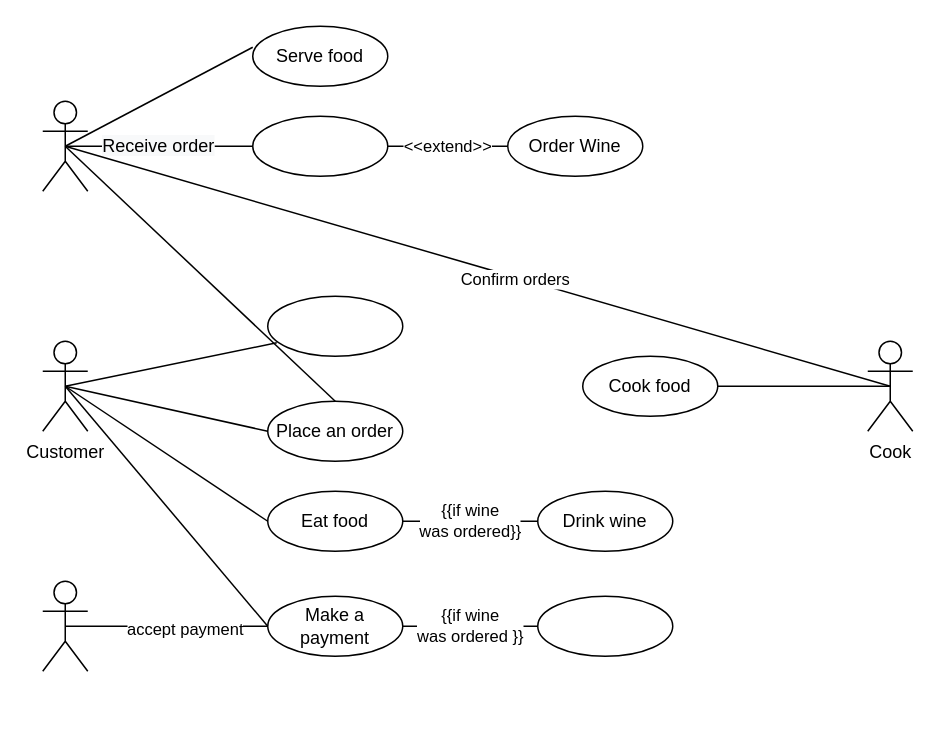
Image size: 939x729. Some labels were removed from this diagram. Each missing label, with the box of its shape:
Cashier: (41, 580, 88, 671)
Make a reservation: (266, 295, 403, 356)
Order food: (251, 115, 388, 176)
Pay for wine: (536, 595, 673, 656)
Waiter: (41, 100, 88, 191)
